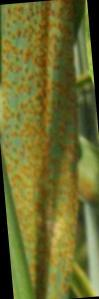Wheat: (8, 148, 83, 294), (1, 2, 71, 141)
